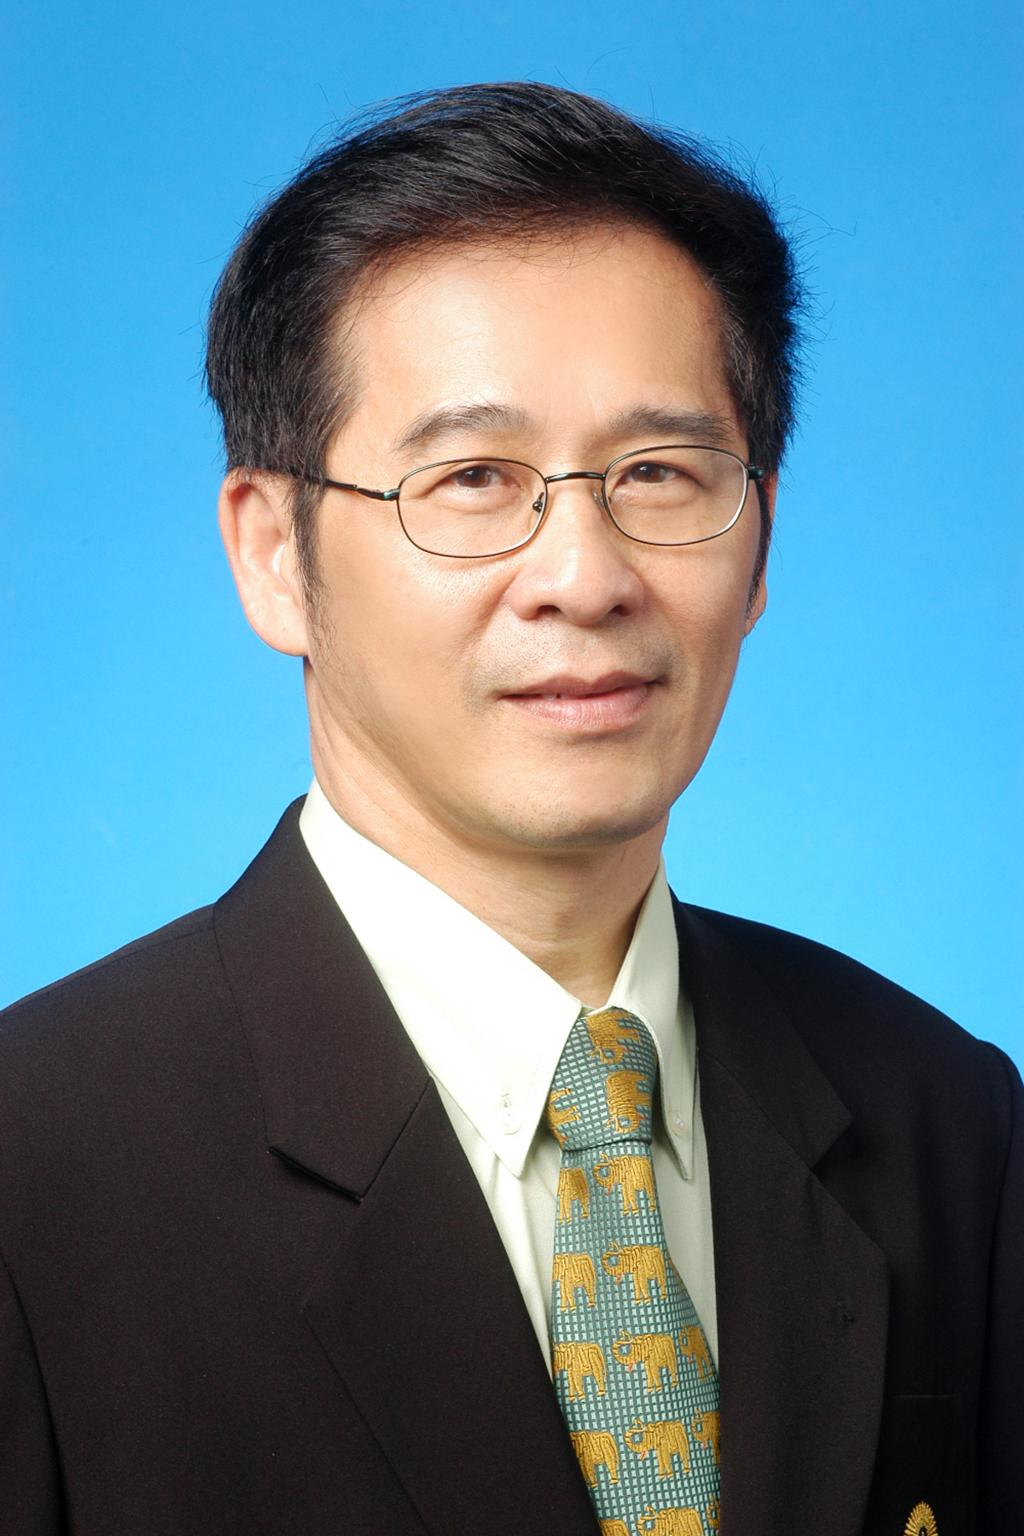face: (309, 261, 765, 841)
